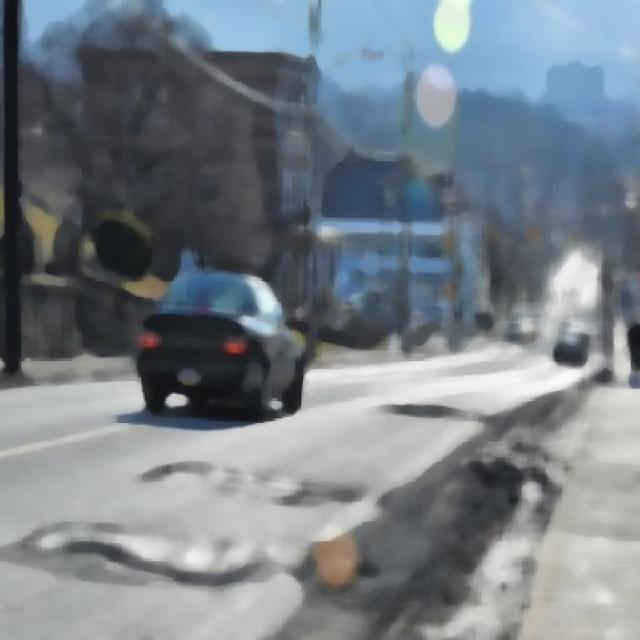Pothole: (36, 508, 259, 615), (134, 458, 348, 520)
